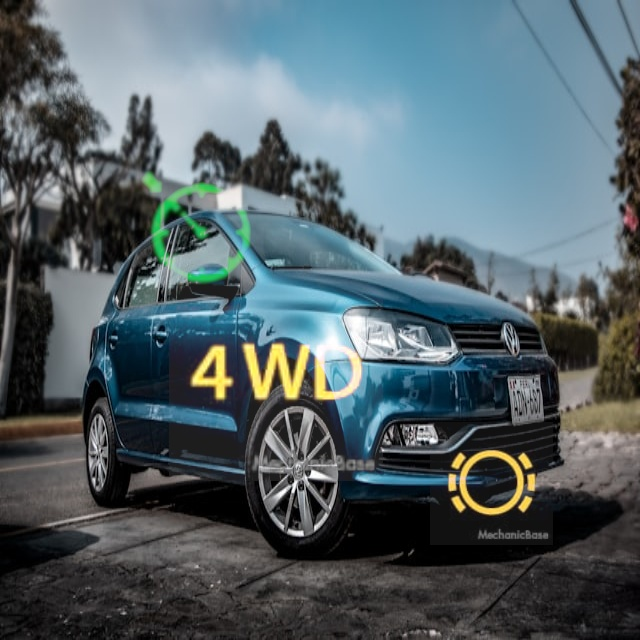symbol: (169, 267, 383, 481), (100, 133, 291, 324), (430, 422, 553, 545)
